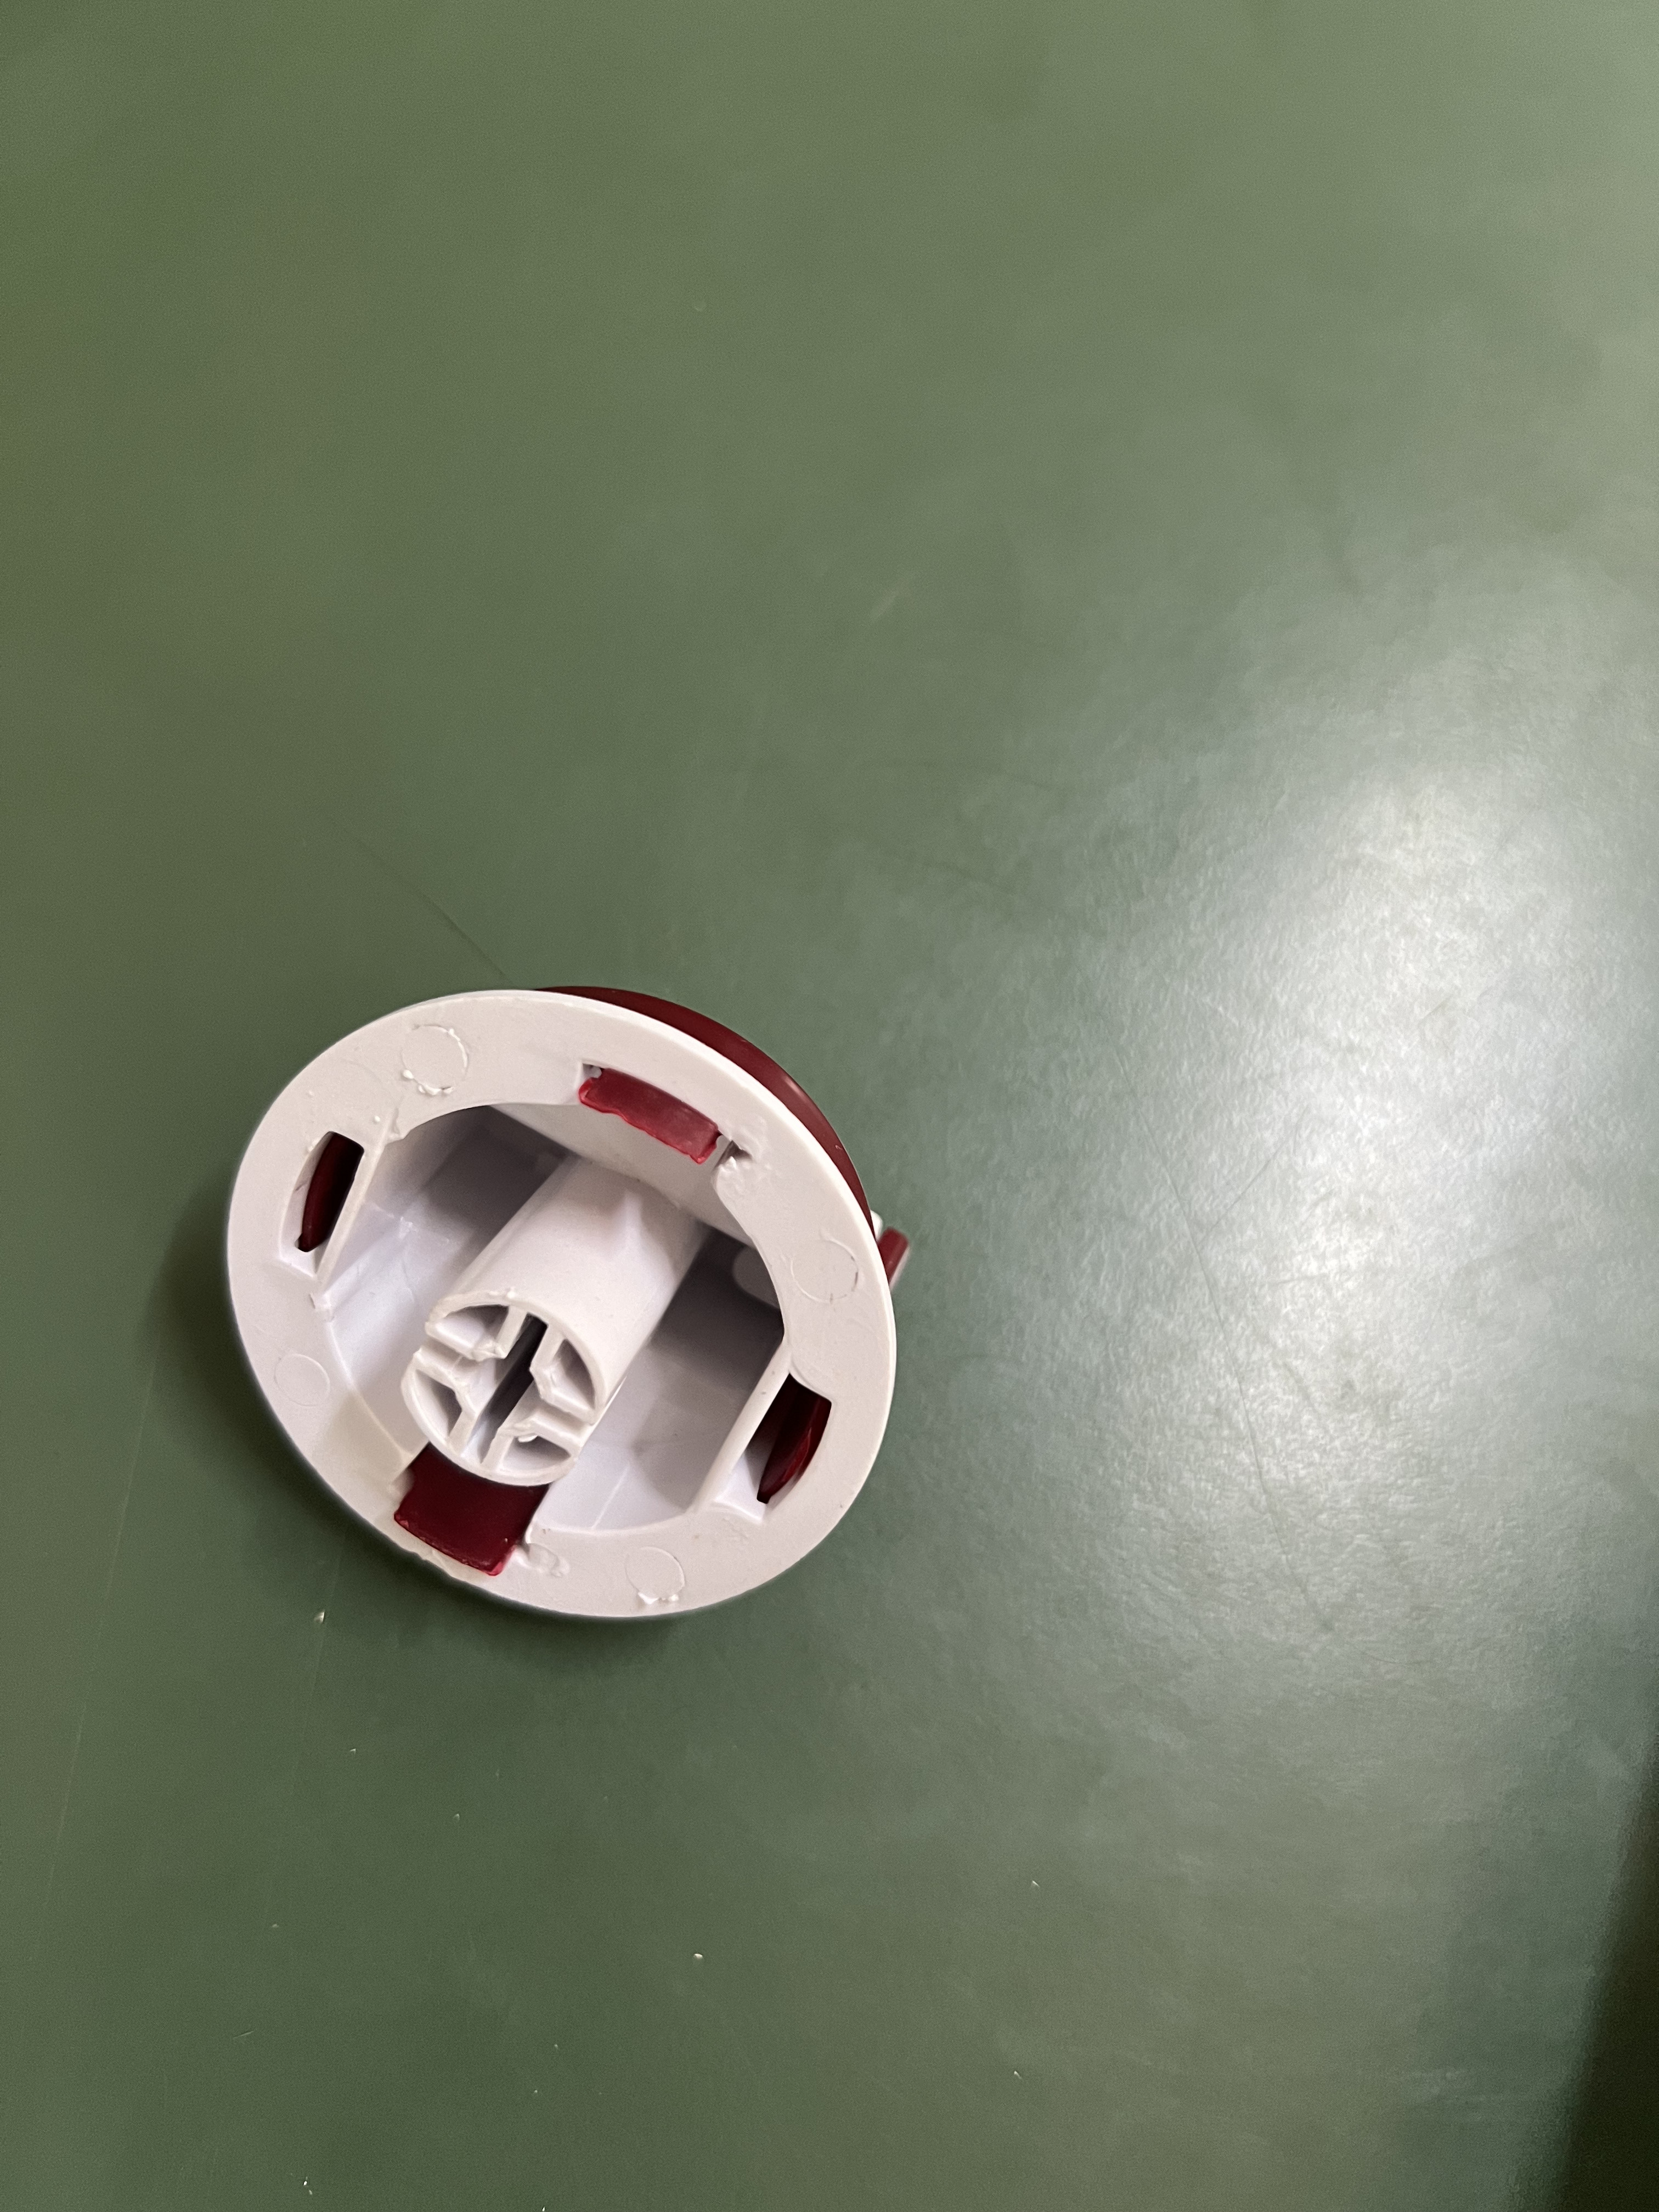regulator: (204, 995, 924, 1623)
